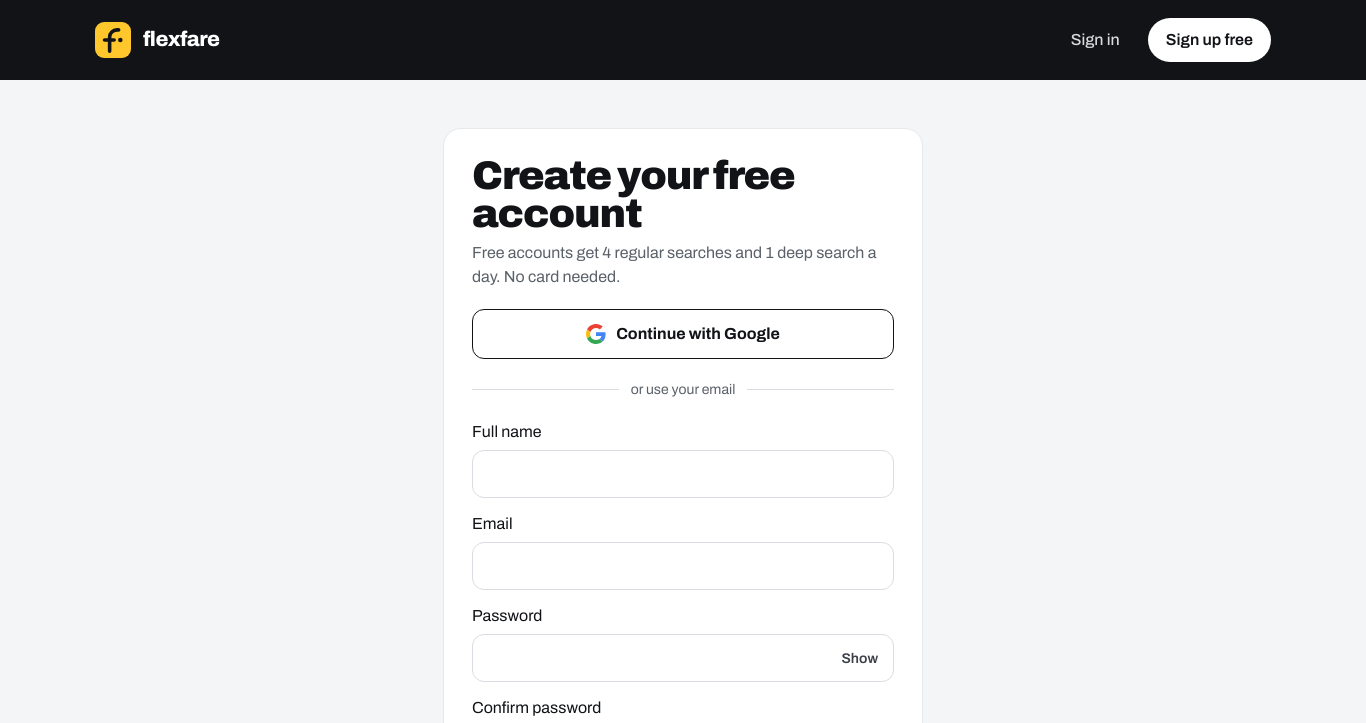
Test: sign-up form › blocks throwaway emails, and the message goes away once you edit
Type "Sachin Shankar" into the field labelled "Full name".
click(683, 474); type("Sachin Shankar")  # box 472,450 -> 894,498
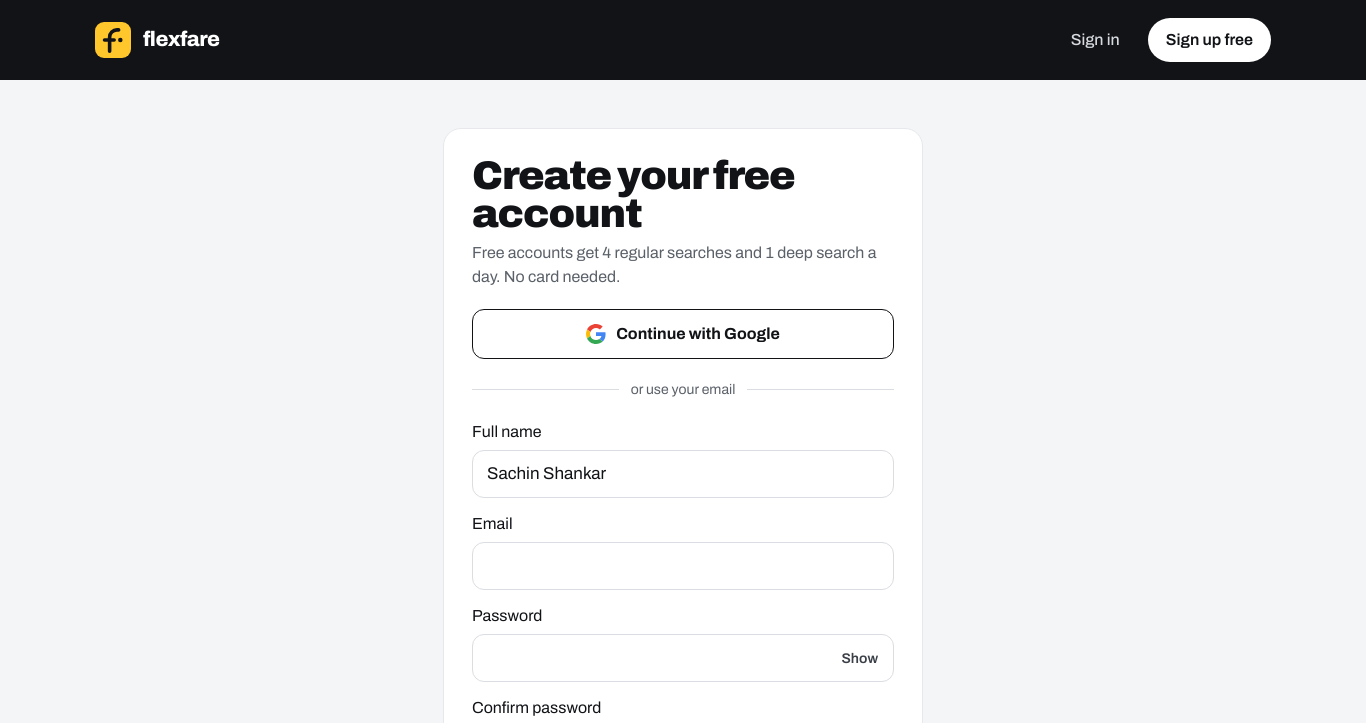
Type "x@mailinator.com" into the field labelled "Email".
click(683, 566); type("x@mailinator.com")  # box 472,542 -> 894,590
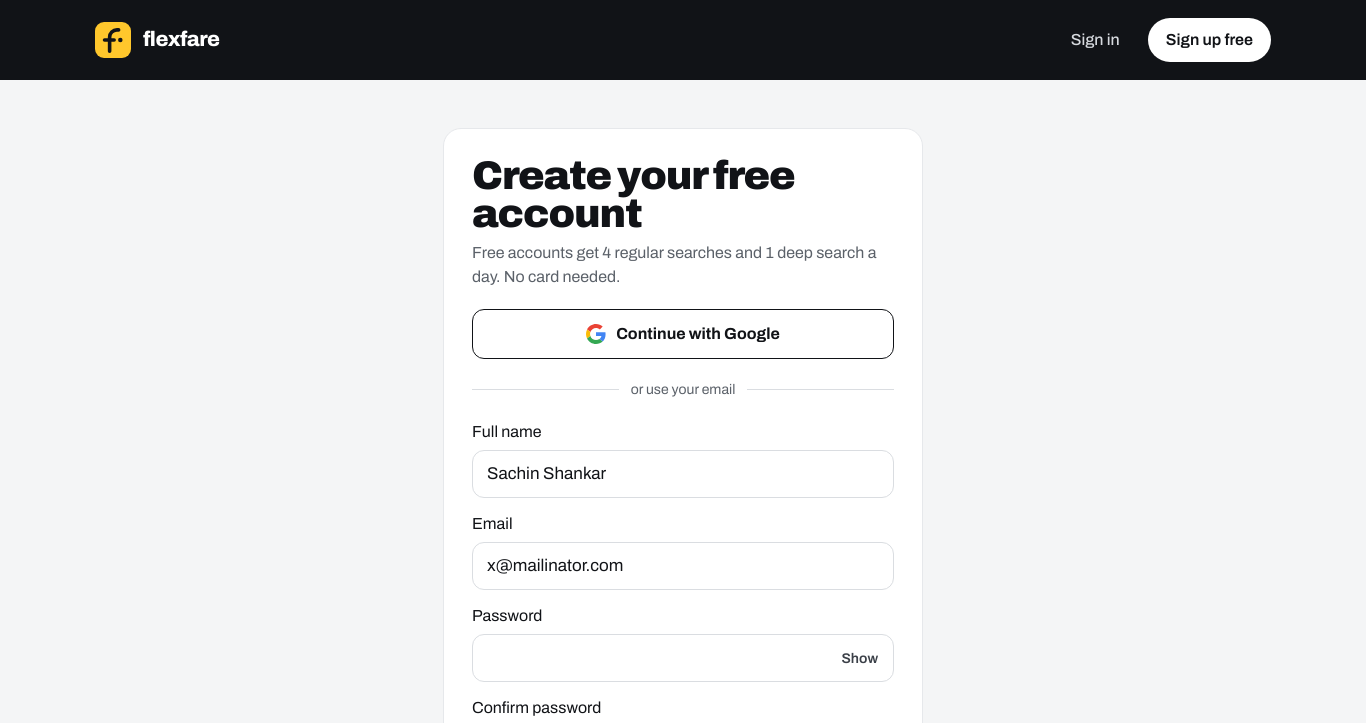
Type "correct horse battery staple" into the password field labelled "Password".
click(683, 658); type("correct horse battery staple")  # box 472,634 -> 894,682
(page scrolled)
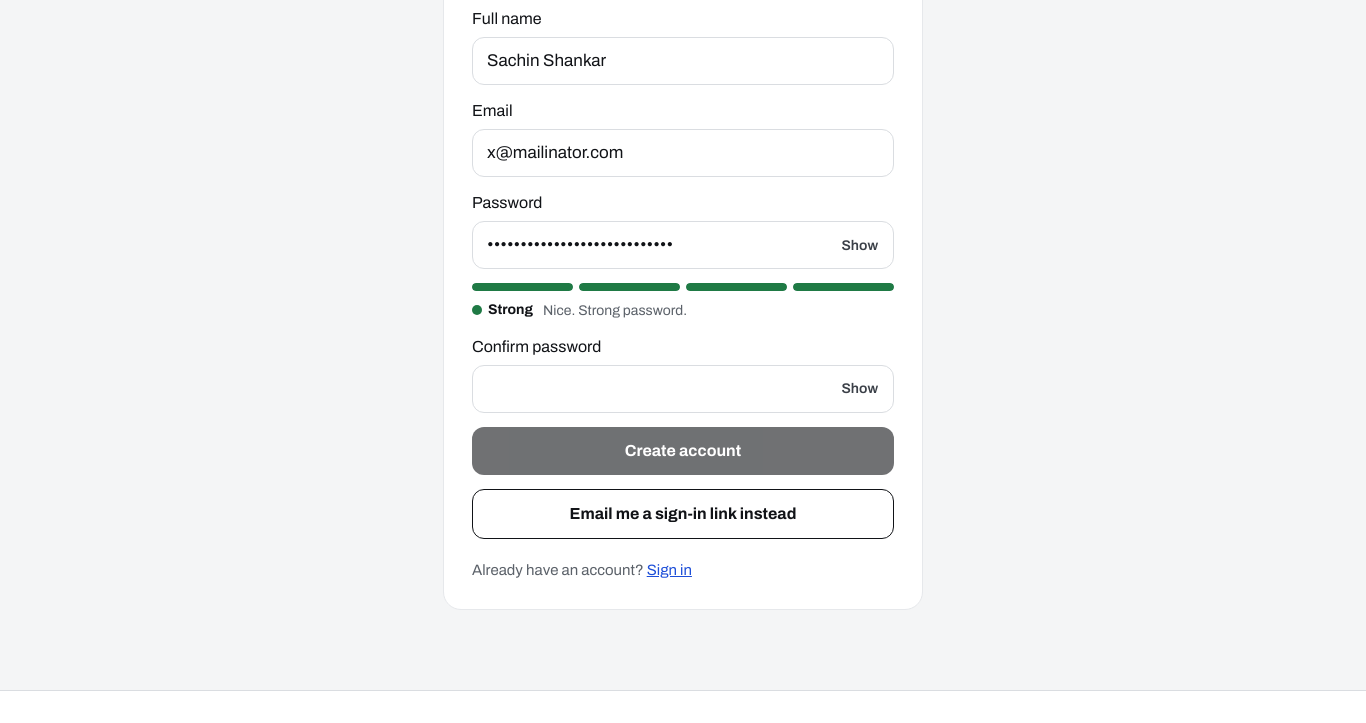
Type "correct horse battery staple" into the password field labelled "Confirm password".
click(683, 388); type("correct horse battery staple")  # box 472,364 -> 894,412
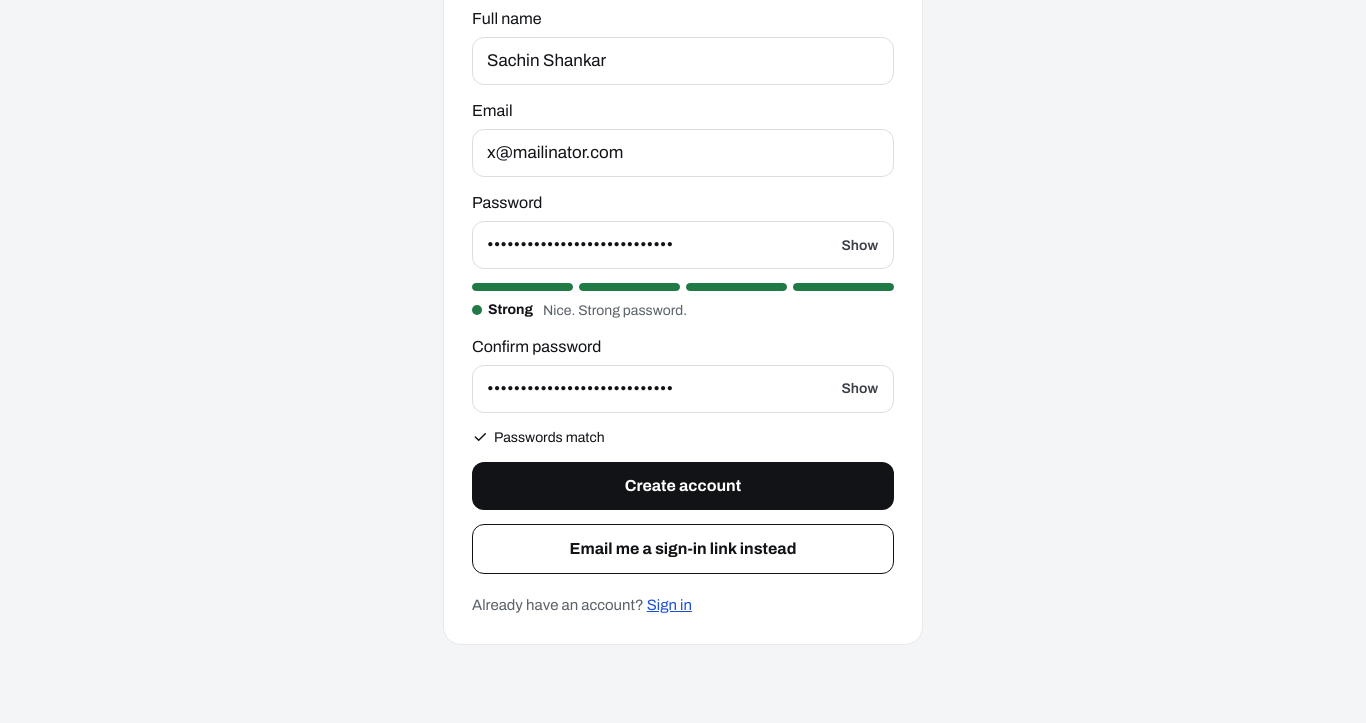
Click the button "Create account".
click(683, 486)  # box 472,462 -> 894,510
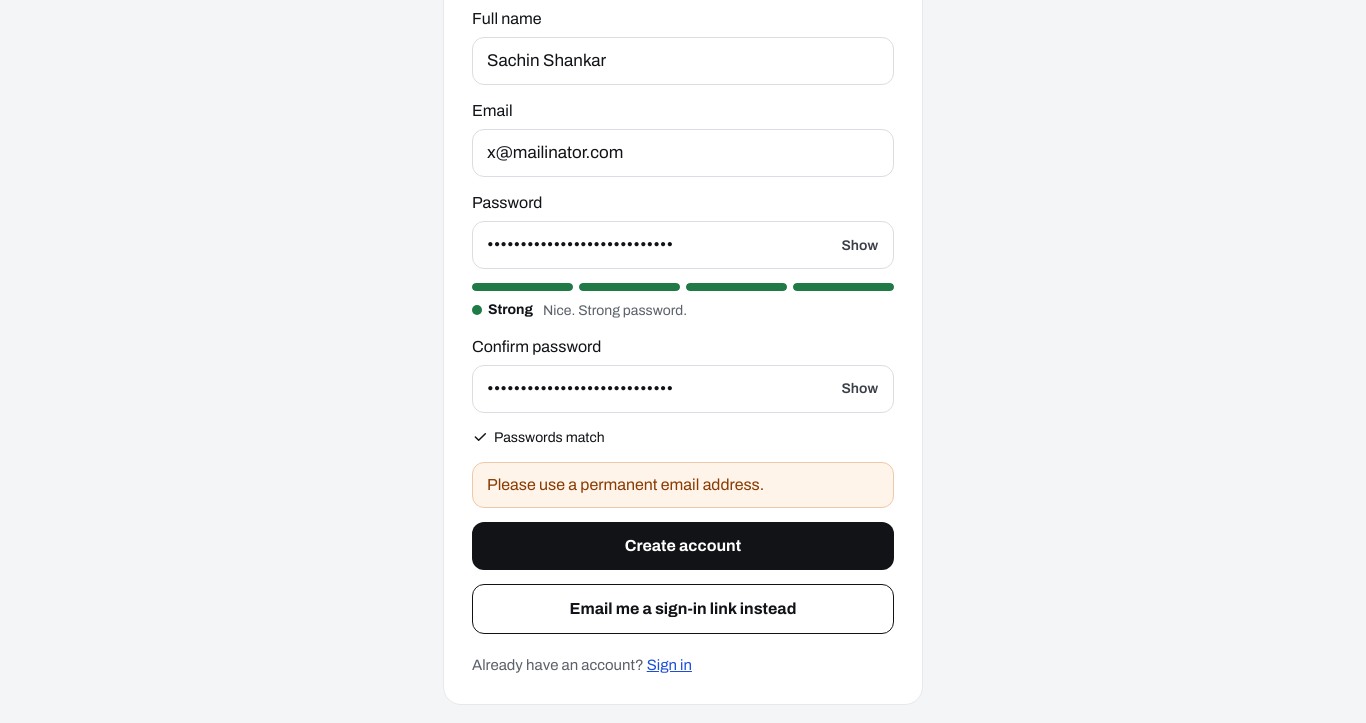
Result: the text "Please use a permanent email address." is shown at 472,462 -> 894,508
Replace the text in the field labelled "Email" with "x@example.com" at (683, 153), box 472,129 -> 894,177
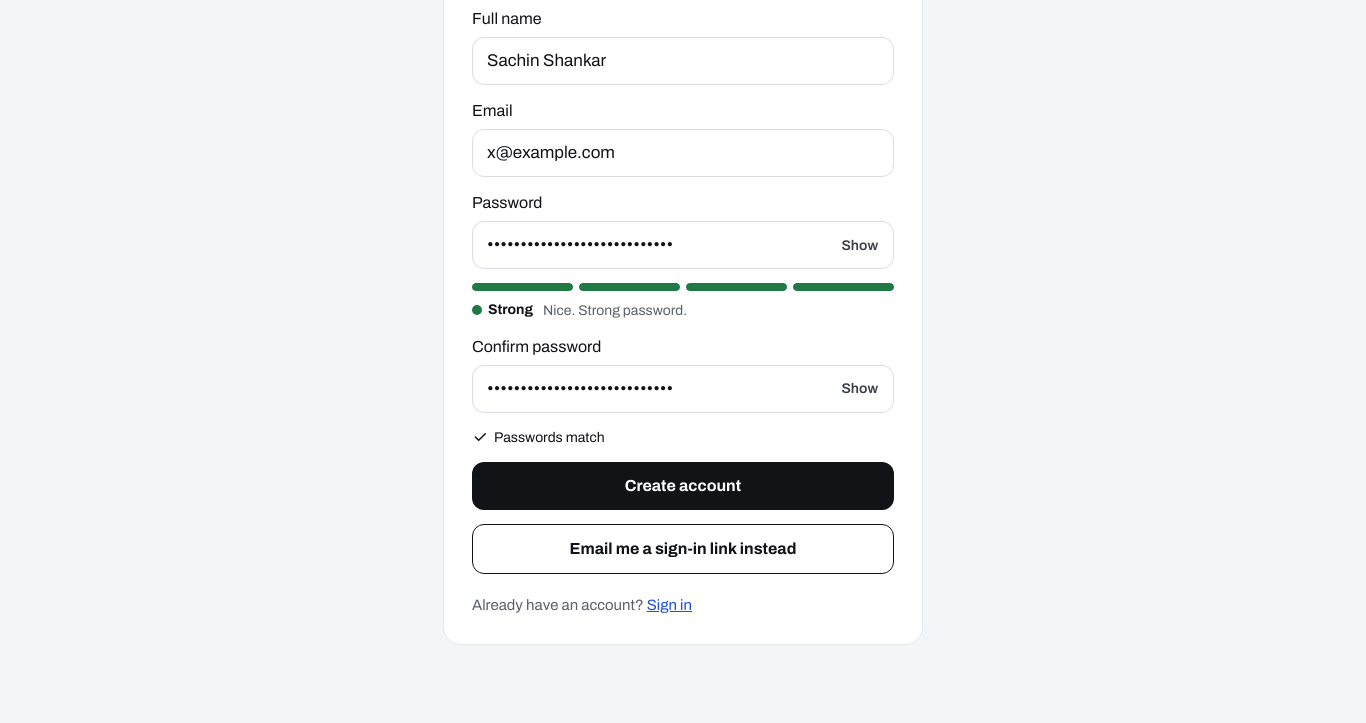
Result: the text "Please use a permanent email address." is gone
